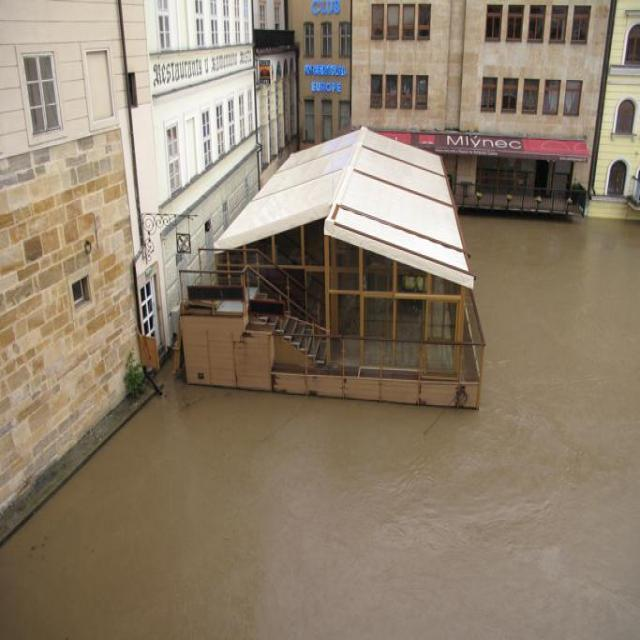flood: (3, 181, 640, 640)
